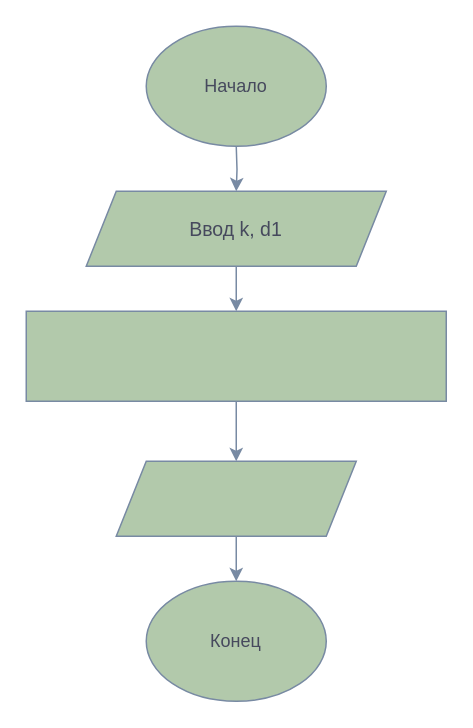
Image size: 473x728. Some labels were removed from this diagram. Here are the shapes that lost their labels. From the top down, the centre of each, then its label:
the point at 235,355: day = (d1 + k - 2) % 7 + 1
the point at 235,498: Вывод day
